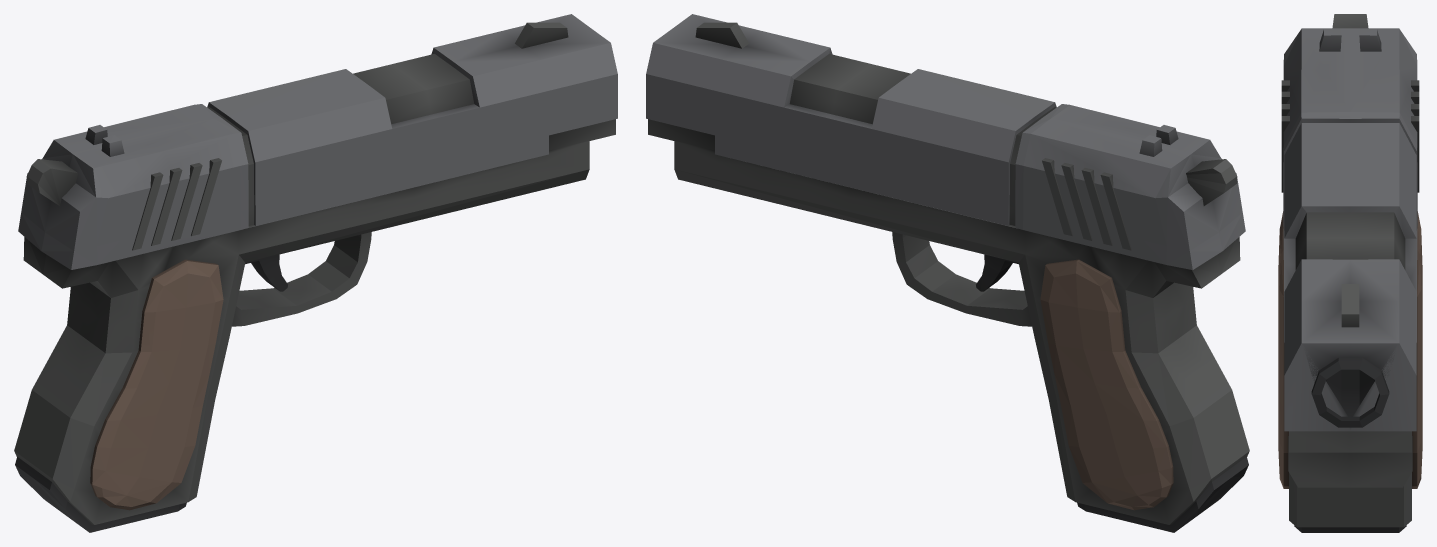
Rendered from q-pistol-2.glb.
3 renders of one model, left to right at view 1: azimuth 30°, elevation 25°; view 2: azimuth 150°, elevation 25°; view 3: azimuth 270°, elevation 25°, orthographic. The views are drawn at different scales.
Visible parts, largest first — view 1: slide, frame; view 2: slide, frame; view 3: slide, frame, barrel.
Part boxes in pixels (x1,y1,x2,y2): slide: (18,14,617,269); frame: (14,141,589,532); slide: (646,14,1245,269); frame: (674,141,1249,532); slide: (1281,14,1419,452); frame: (1278,211,1422,532); barrel: (1311,357,1389,427).
Size of the model in its own units: 0.22 by 0.1405 by 0.0391.
